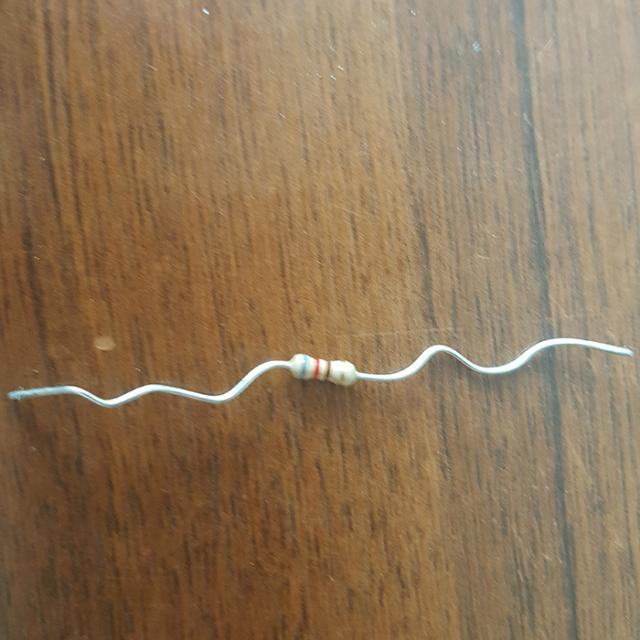brown: (325, 360, 332, 379)
gold: (340, 362, 347, 384)
grey: (301, 355, 308, 378)
red: (314, 358, 321, 378)
resistor: (285, 343, 362, 395)
